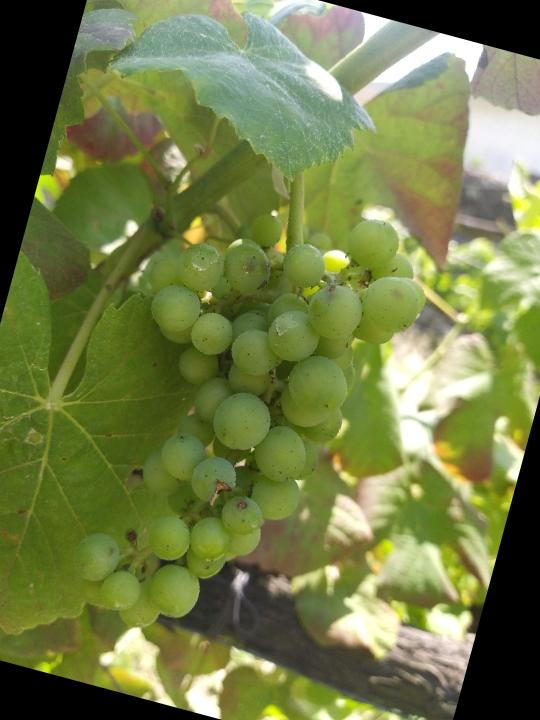grape: (50, 159, 444, 683)
